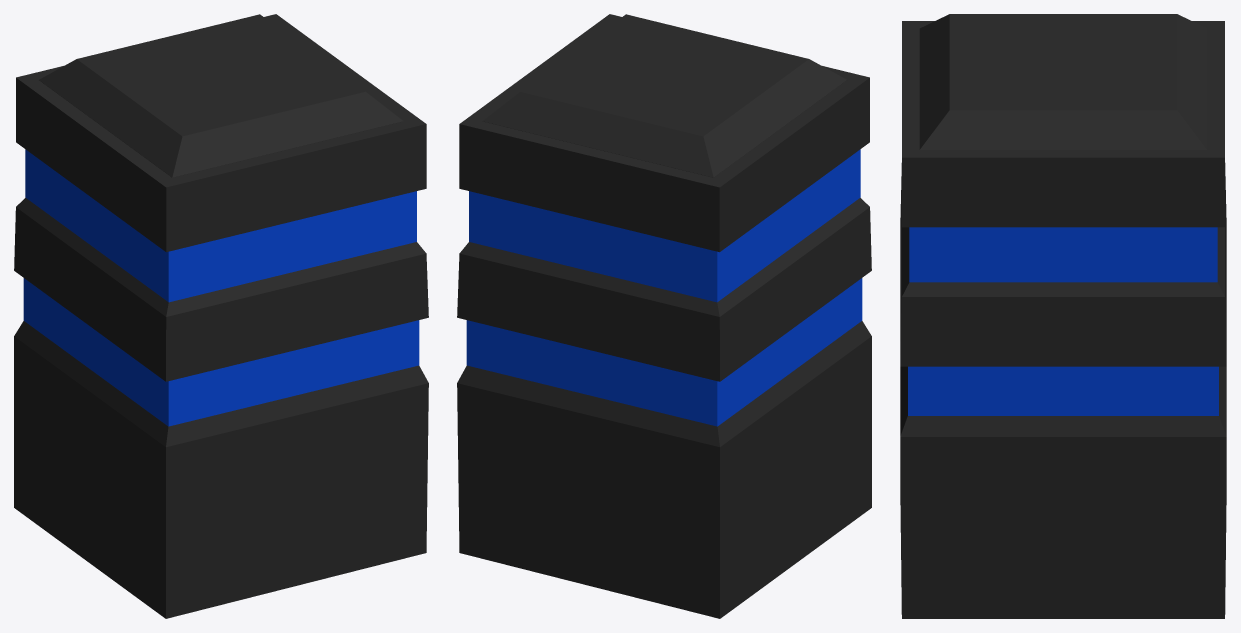
File: Blue Building.fbx
The picture shows the model from 3 angles, left to right: view 1: azimuth 30°, elevation 25°; view 2: azimuth 150°, elevation 25°; view 3: azimuth 270°, elevation 25°; orthographic projection. The views are drawn at different scales.
Visible parts, largest first — view 1: Cube; view 2: Cube; view 3: Cube.
Part boxes in pixels (x1=…): Cube: x1=14, y1=14, x2=428, y2=618; Cube: x1=457, y1=14, x2=871, y2=618; Cube: x1=900, y1=14, x2=1226, y2=618.
Bounding box in the file's own units: 399 × 661 × 399.
